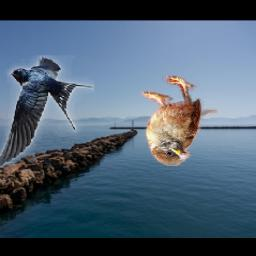Sparrow: (139, 76, 219, 166)
Swallow: (0, 56, 95, 169)
